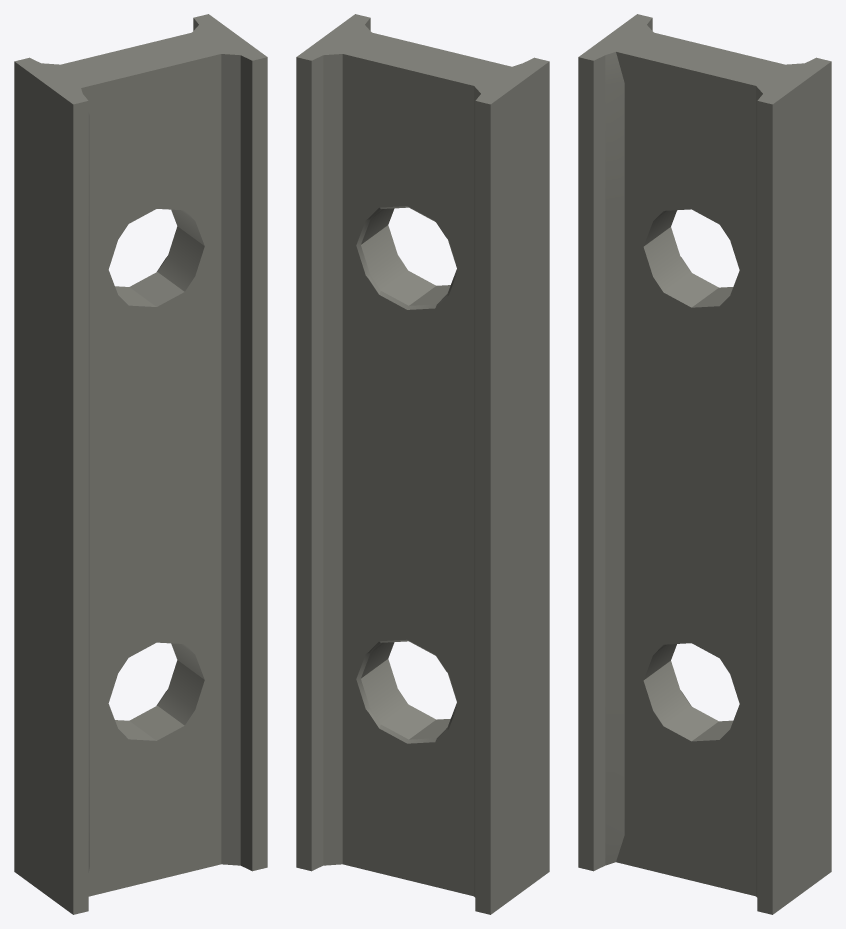
File: metal_rod_short_02.fbx
3 renders of one model, left to right at view 1: azimuth 30°, elevation 25°; view 2: azimuth 150°, elevation 25°; view 3: azimuth 330°, elevation 25°, orthographic.
Visible parts, largest first — view 1: metal_rod_short_02; view 2: metal_rod_short_02; view 3: metal_rod_short_02.
Part boxes in pixels (x1,y1,x2,y2): metal_rod_short_02: (14,14,267,914); metal_rod_short_02: (296,14,549,914); metal_rod_short_02: (578,14,831,914).
Size of the model in its own units: 21.05 by 83.89 by 11.05.
